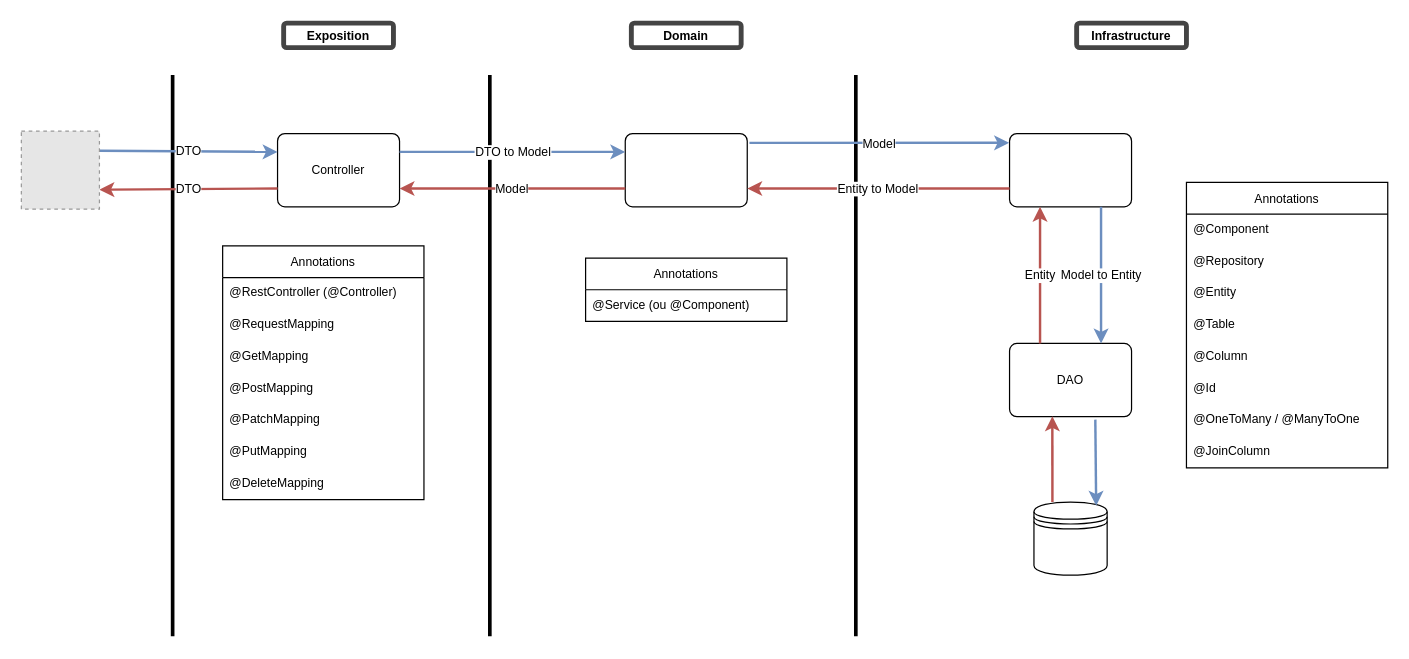
This 1409x659 diagram has some shape labels left out. Grey dashed boxes stand in for pictures. Here are the shapes that lost their labels. From the top down, the box of each, then its label:
(624, 132, 747, 207): Service
(1008, 132, 1132, 207): Repository
(1033, 501, 1107, 575): Database
